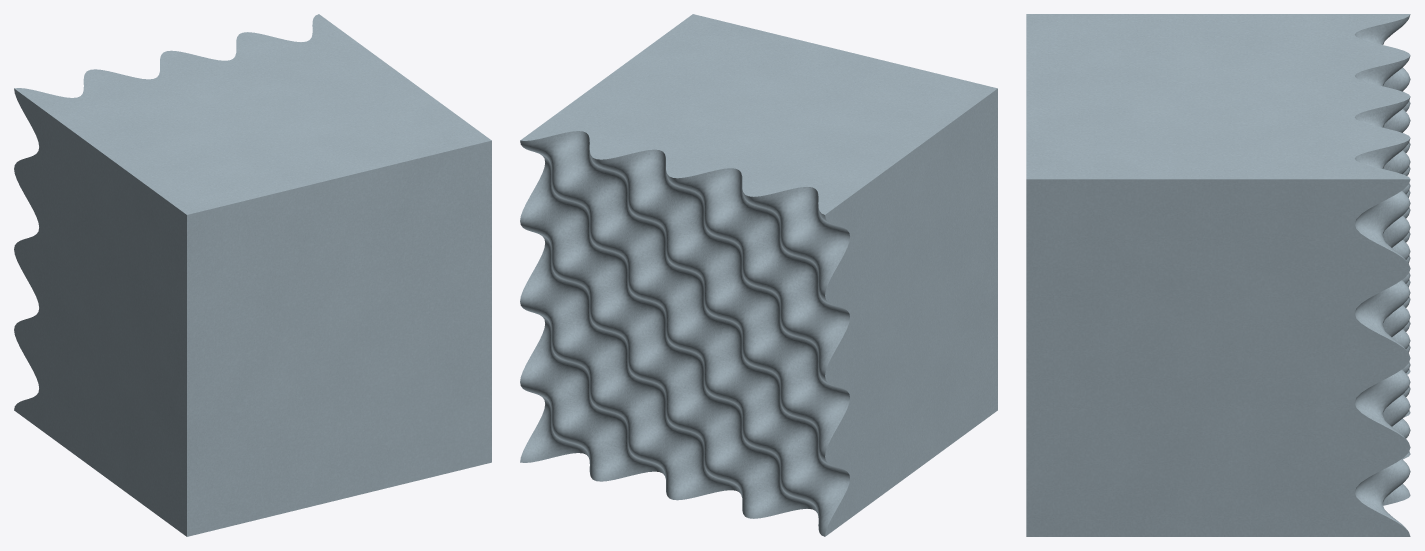
Rendered from piece_foam.fbx.
The picture shows the model from 3 angles, left to right: view 1: azimuth 30°, elevation 25°; view 2: azimuth 150°, elevation 25°; view 3: azimuth 270°, elevation 25°; orthographic projection. The views are drawn at different scales.
Parts seen in each view (by area): view 1: piece_foam; view 2: piece_foam; view 3: piece_foam.
Boxes of the visible parts, left/top/right/bottom form: piece_foam: left=14, top=14, right=491, bottom=536; piece_foam: left=520, top=14, right=997, bottom=536; piece_foam: left=1026, top=14, right=1410, bottom=536.
Size of the model in its own units: 0.224 by 0.226 by 0.22.
